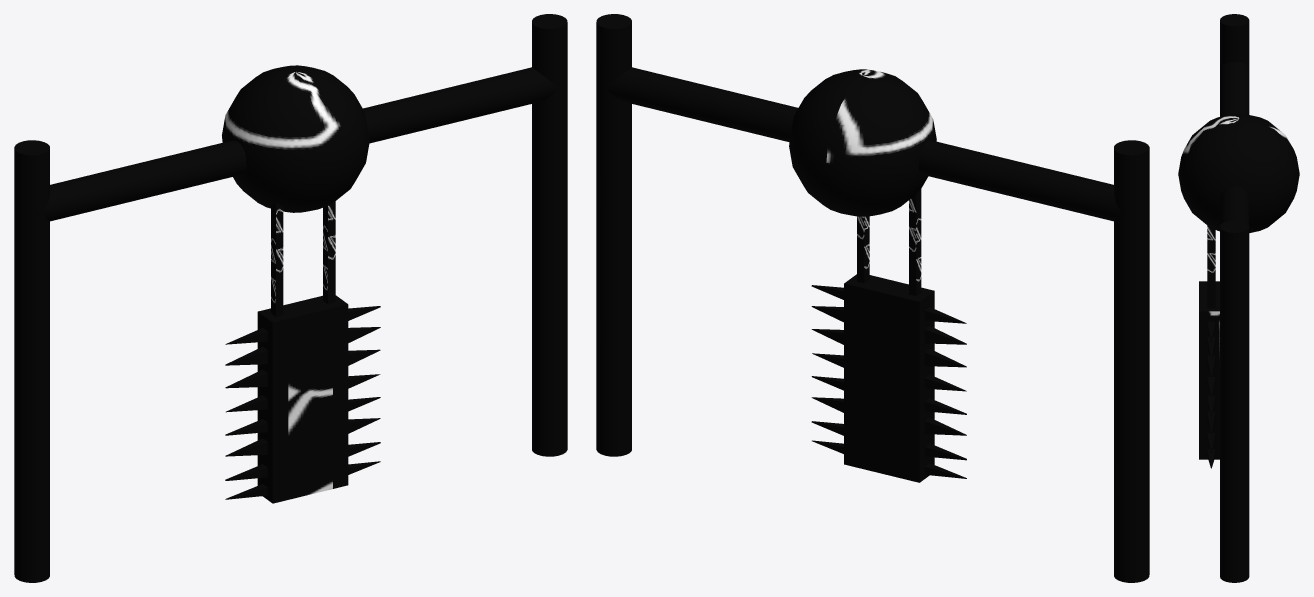
3 views of the same model, side by side, from view 1: azimuth 30°, elevation 25°; view 2: azimuth 150°, elevation 25°; view 3: azimuth 270°, elevation 25° (orthographic). The views are drawn at different scales.
Parts seen in each view (by area): view 1: Cylinder007, Box002; view 2: Cylinder007, Box002; view 3: Cylinder007, Box002.
Part boxes in pixels (bbox=[...]): Cylinder007: bbox=[14, 14, 567, 582]; Box002: bbox=[225, 201, 380, 503]; Cylinder007: bbox=[596, 14, 1149, 582]; Box002: bbox=[811, 189, 966, 482]; Cylinder007: bbox=[1178, 14, 1299, 582]; Box002: bbox=[1199, 225, 1219, 468].
Size of the model in its own units: 9466 by 2222 by 7203.
